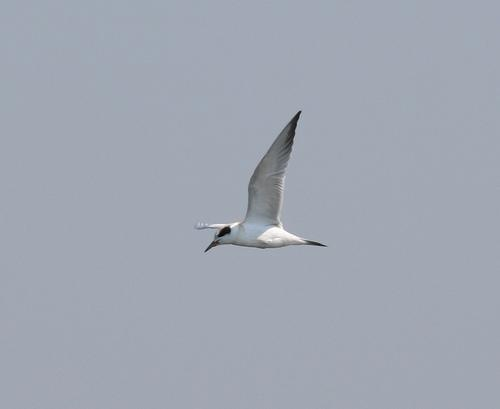bird: (193, 111, 333, 252)
